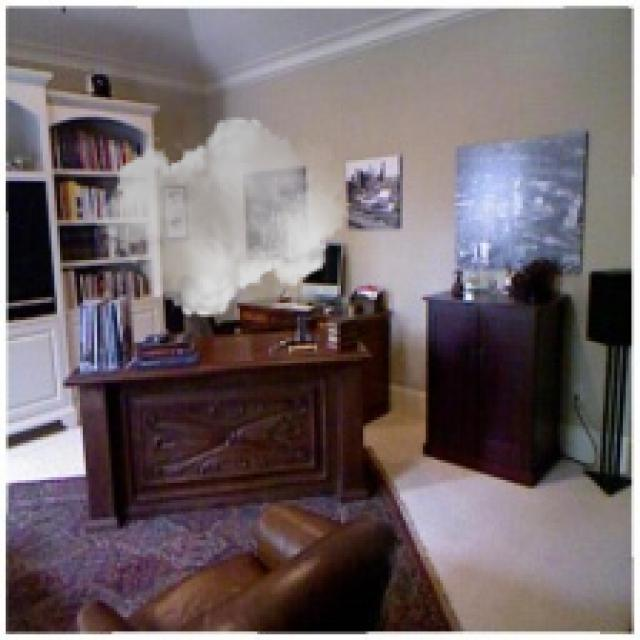smoke: (94, 108, 349, 326)
